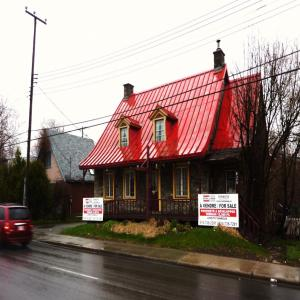Vehicle-registration-plate: (17, 224, 26, 234)
